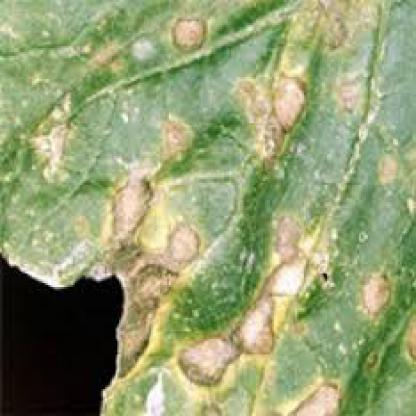AlternariaBrassicicola: (25, 94, 101, 189), (254, 66, 320, 164), (164, 328, 245, 400), (254, 237, 324, 306), (352, 260, 409, 327), (160, 214, 212, 272), (366, 144, 411, 194), (170, 12, 209, 60)
